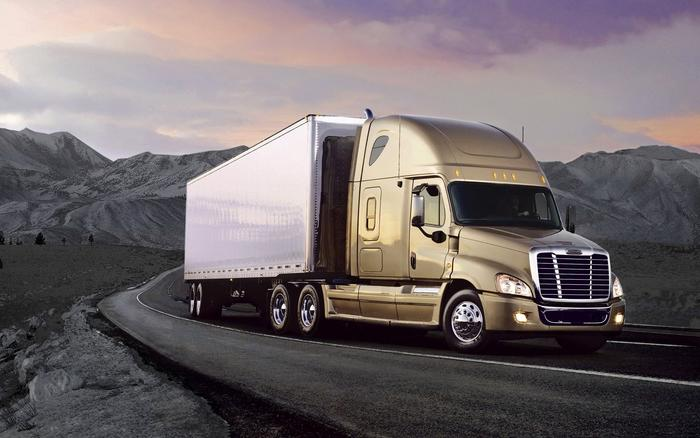truck: (159, 104, 637, 360)
